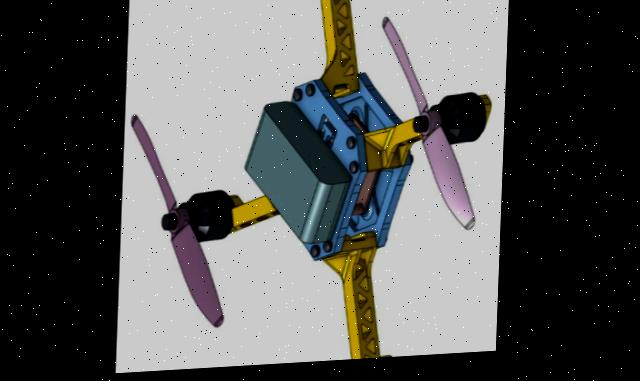drone: (128, 0, 510, 375)
